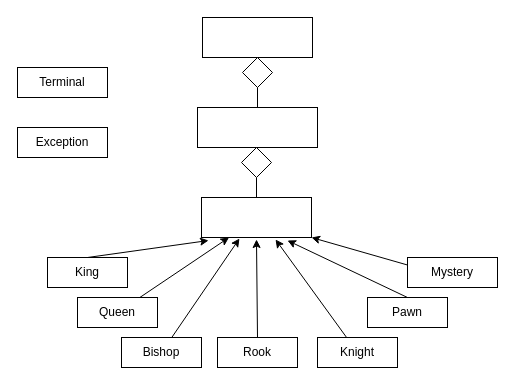
Image size: 515x385. Some labels were removed from this diagram. Here are the shapes that lost their labels. From the top down, the centre of each, then its label:
point (257, 37): Game
point (257, 127): Board
point (256, 217): Piece
